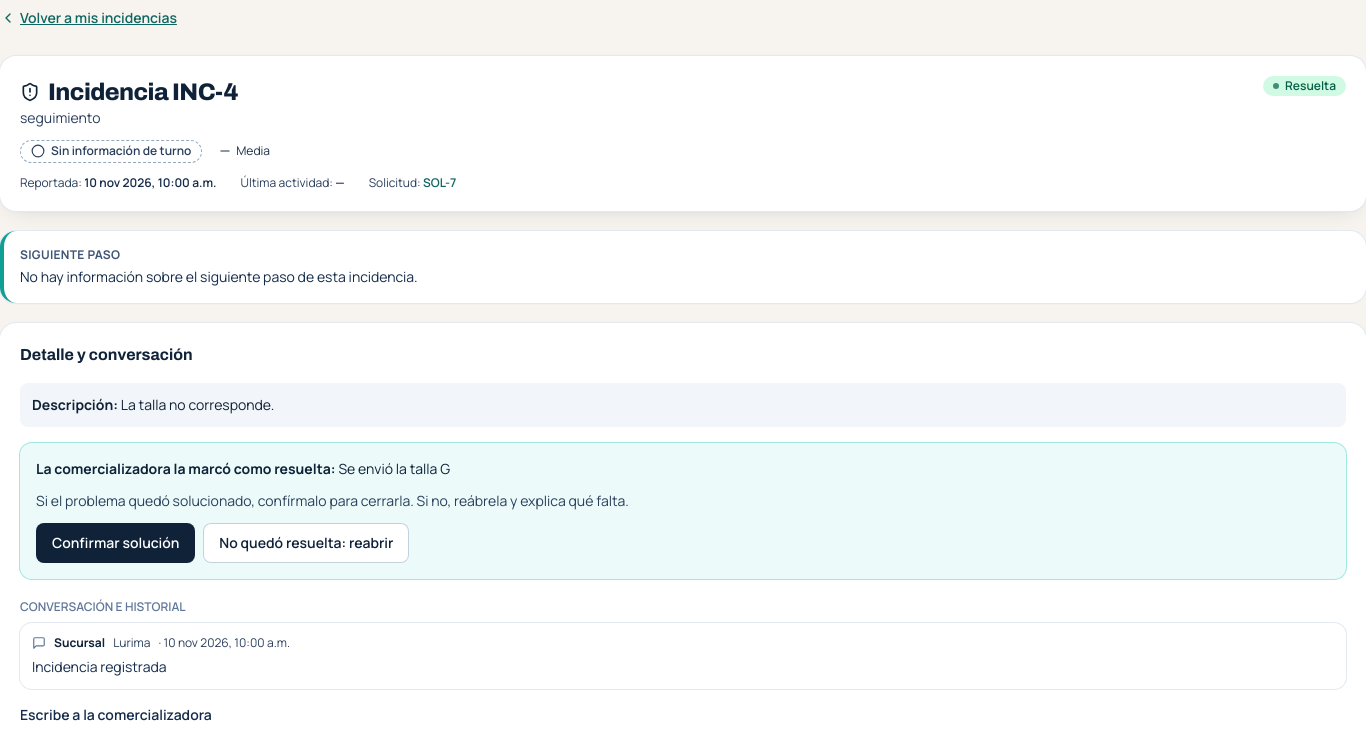
Test: incidencia de la sucursal › resuelta: muestra la resolución, confirma la solución o exige un motivo para reabrir
expect the text "Se envió la talla G" is shown: met, box [338,458,450,478]
Click the button "No quedó resuelta: reabrir".
click(306, 542)  # box [203,522,410,562]
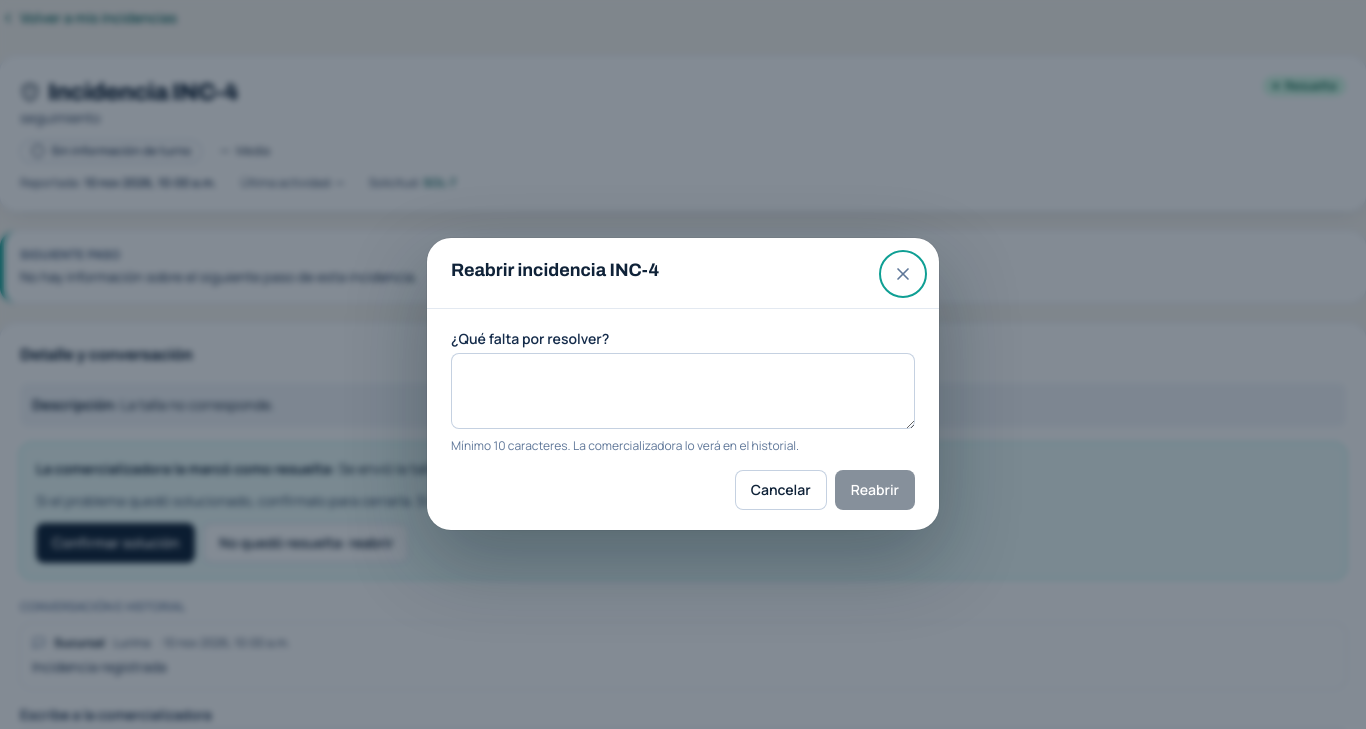
expect the button "Reabrir" is disabled: met, box [835,470,915,510]
Type "Sigue sin quedarle" into the text box labelled "Qué falta por resolver".
click(683, 391); type("Sigue sin quedarle")  # box [451,353,915,429]
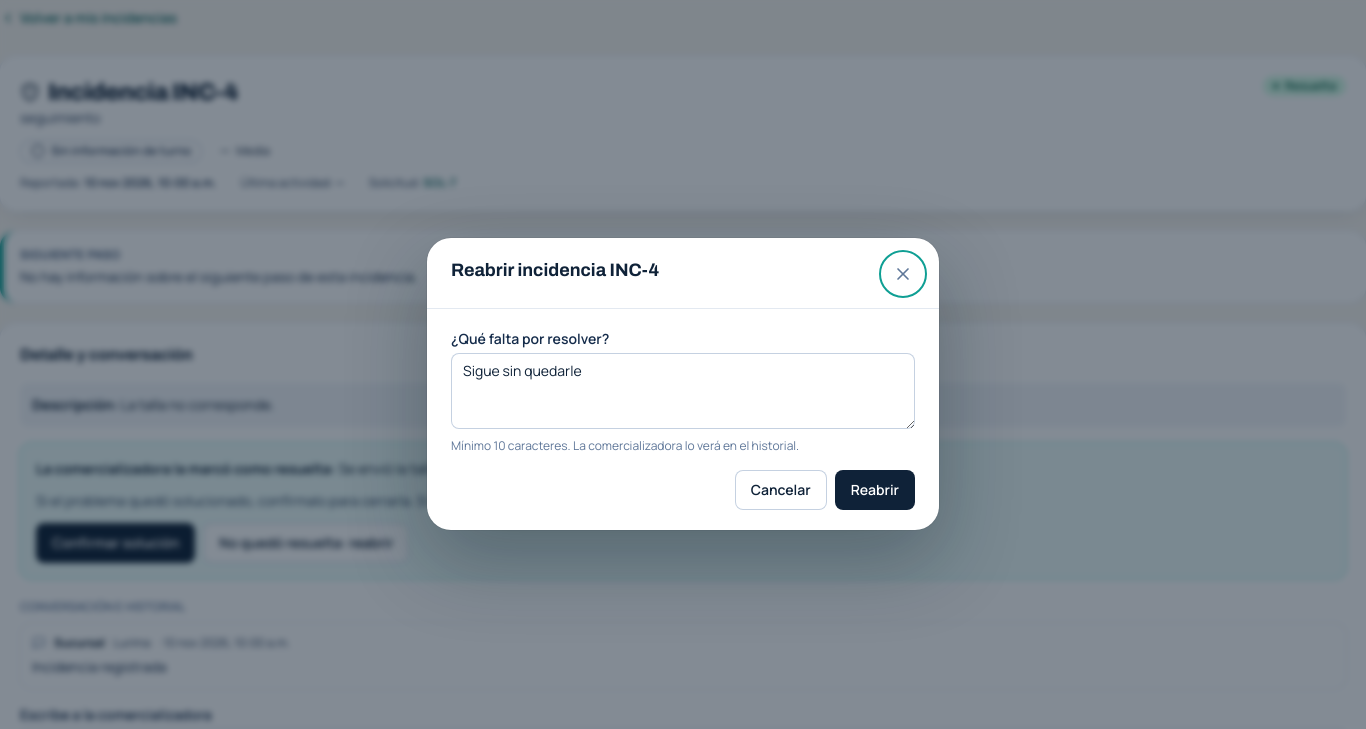
expect the button "Reabrir" is enabled: met, box [835,470,915,510]
Click the button "Cancelar".
click(781, 490)  # box [735,470,827,510]
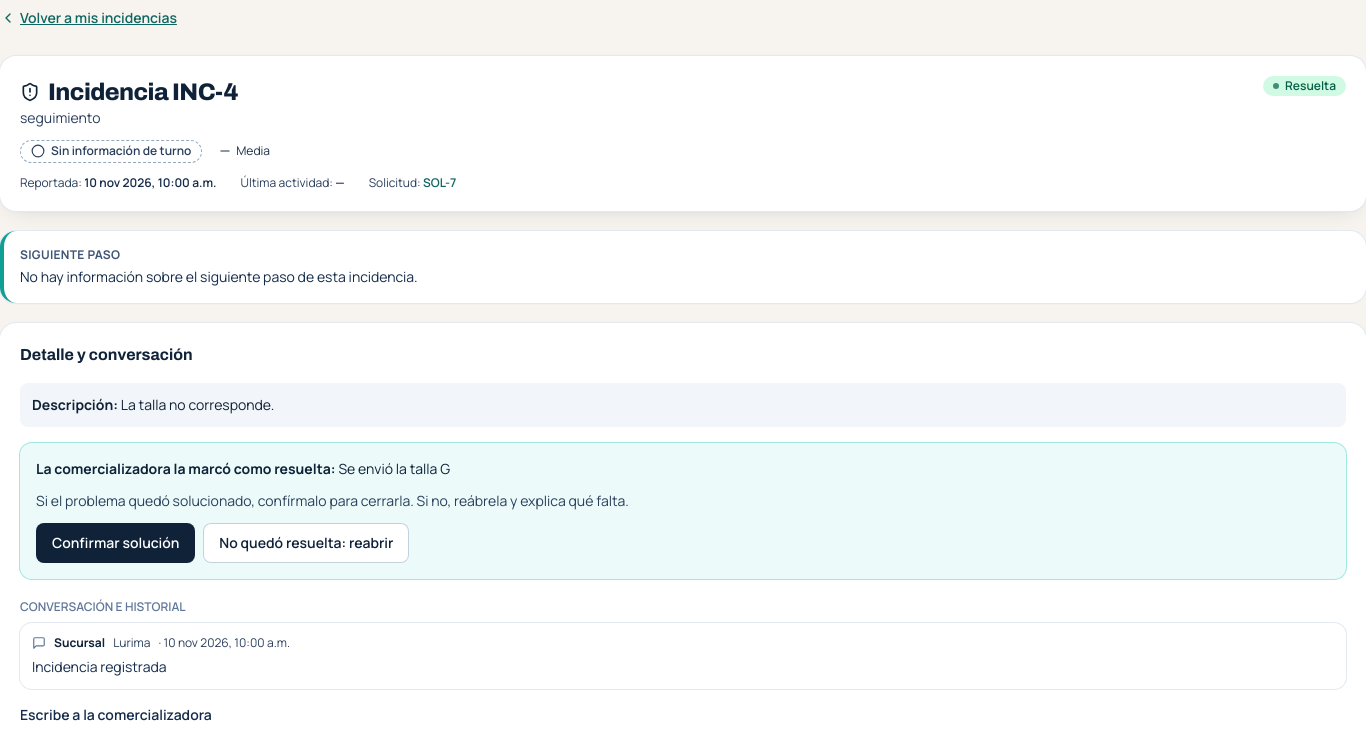
Click the button "Confirmar solución".
click(116, 542)  # box [36,522,195,562]
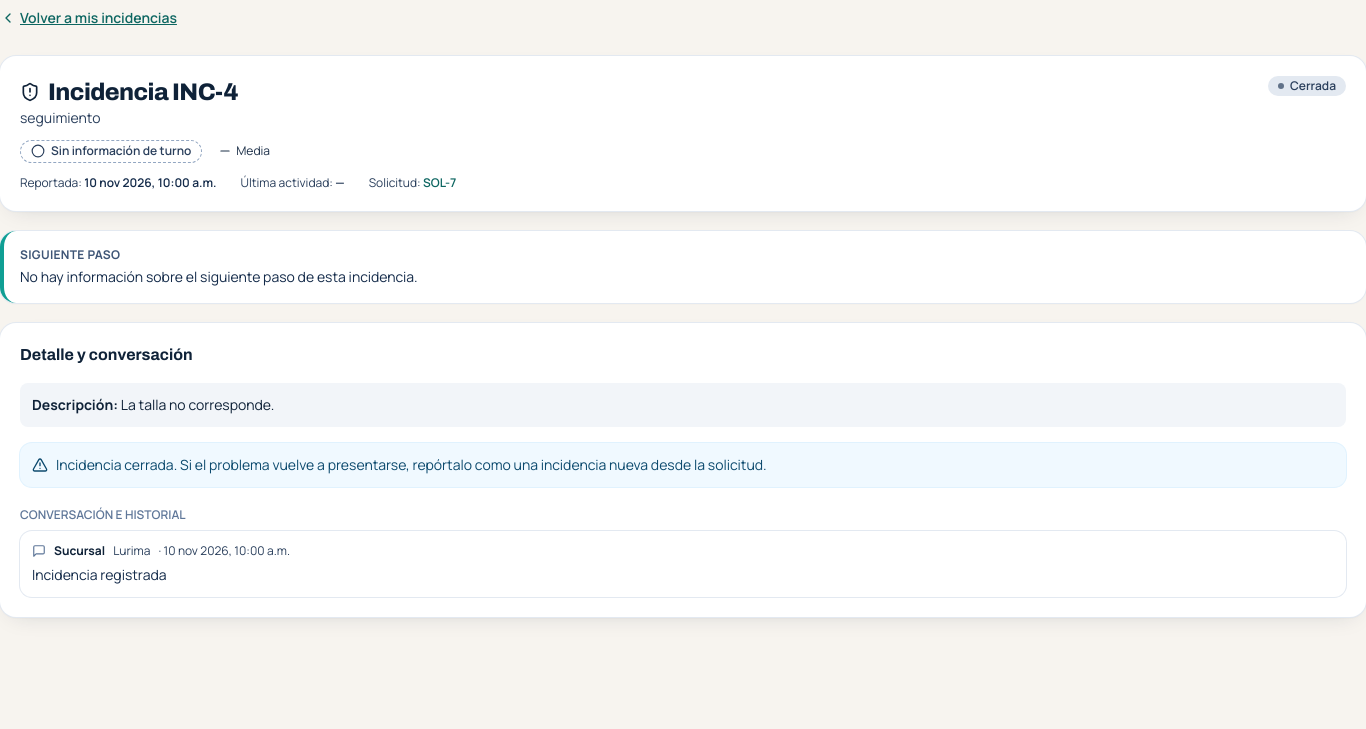
expect the text "Incidencia cerrada" is shown: met, box [56,454,766,474]
